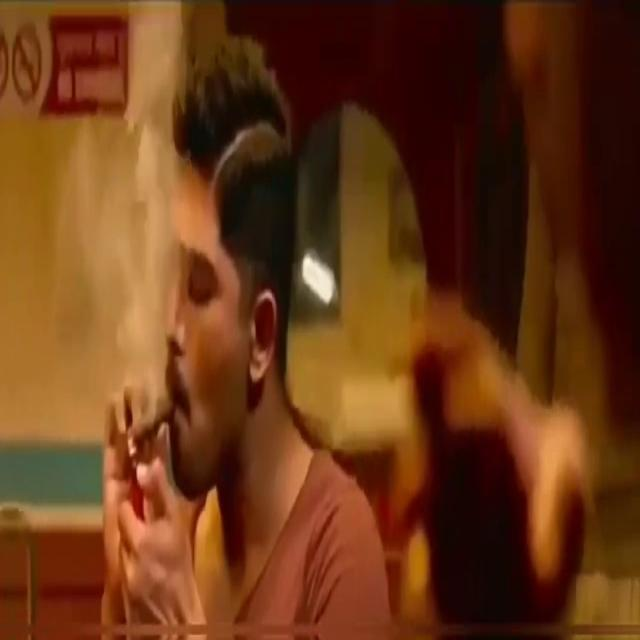smoking: (100, 274, 232, 532)
